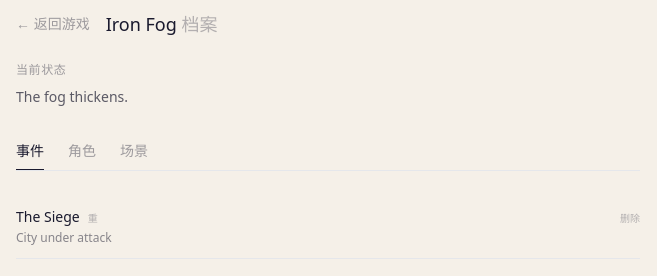
Scenario: deletes an event when clicking delete and removes from list
The image size is (657, 276).
expect the text "The Siege" is shown: met, box [16,207,80,226]
What coordinates should you click on to do the following:
click the button with aria-label "删除事件"
I would click on:
 (630, 218)
Its box is [620,211,640,226].
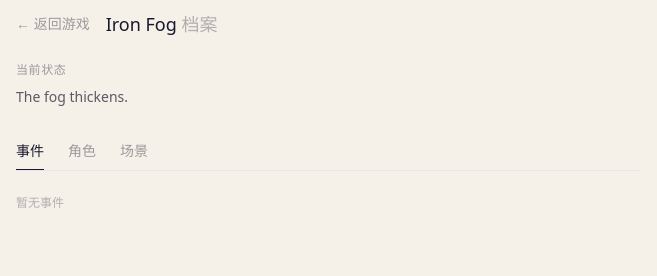
expect the text "The Siege" is gone: met
